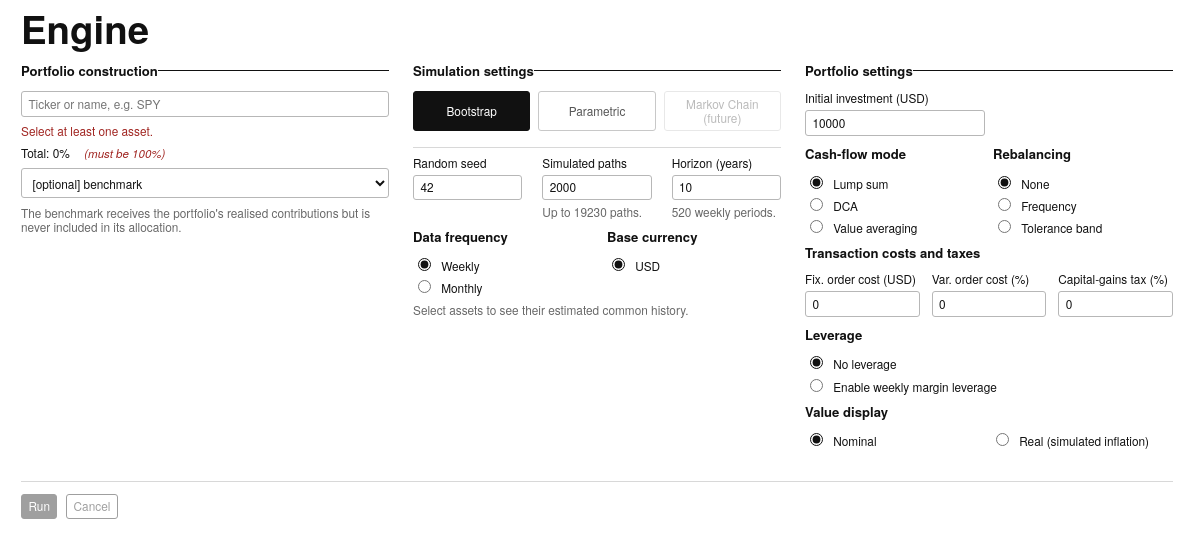
Scenario: SimulatorPage — the search -> select -> weight -> run flow › places a total-allocation error beside the controls and disables Run until it is fixed
Type "e" into the search field named "Search ETFs and assets" at (205, 104), box [21,91,389,117]
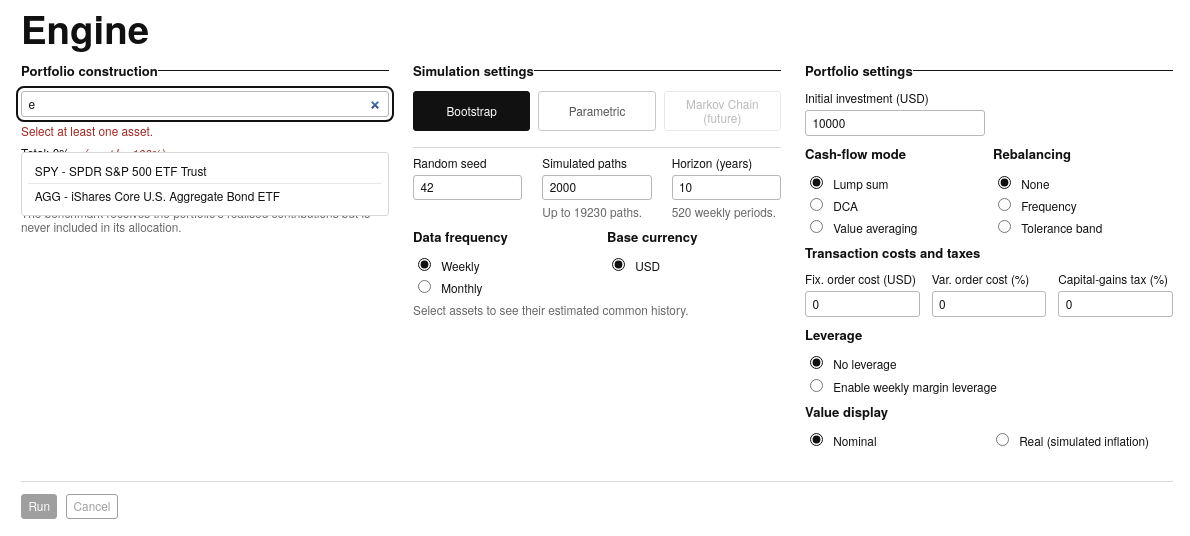
Click the button "SPY - SPDR S&P 500 ETF Trust" at (205, 172), box [28,160,382,183]
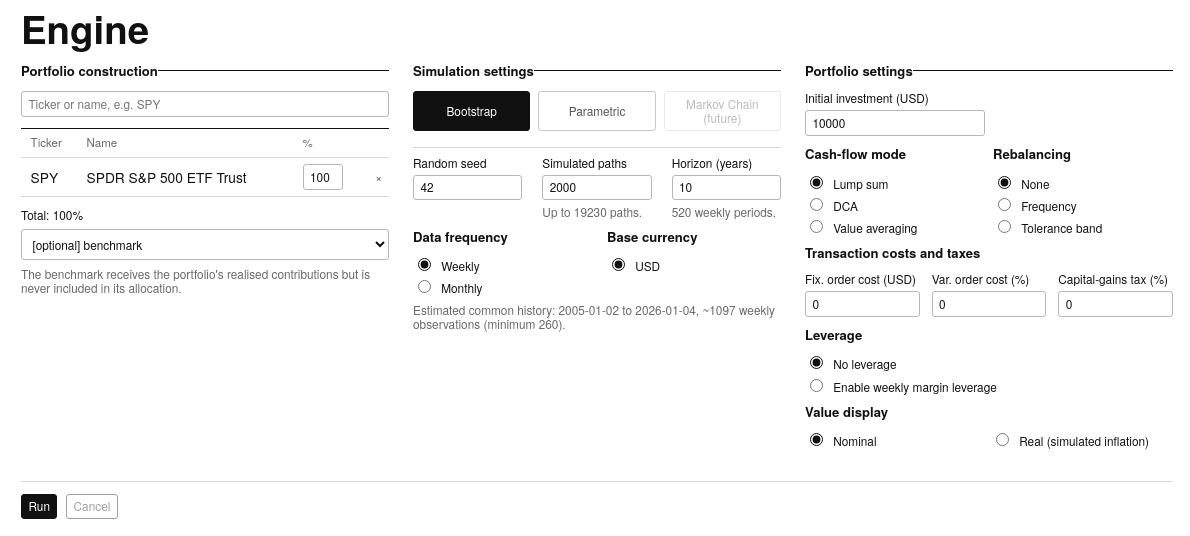
Type "agg" into the search field named "Search ETFs and assets" at (205, 104), box [21,91,389,117]
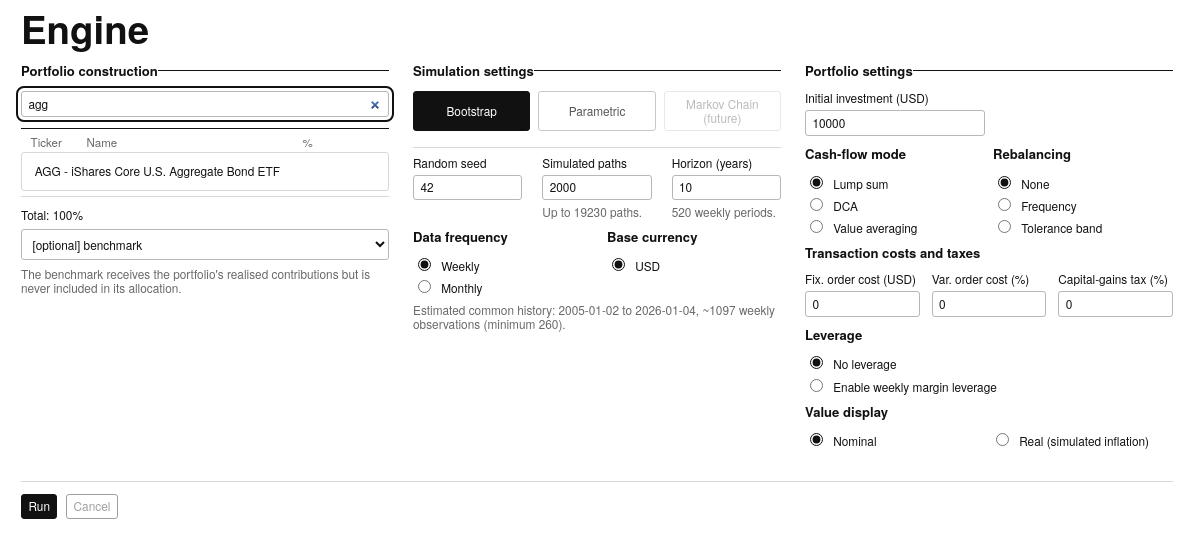
Click the button "AGG - iShares Core U.S. Aggregate Bond ETF" at (205, 172), box [28,160,382,183]
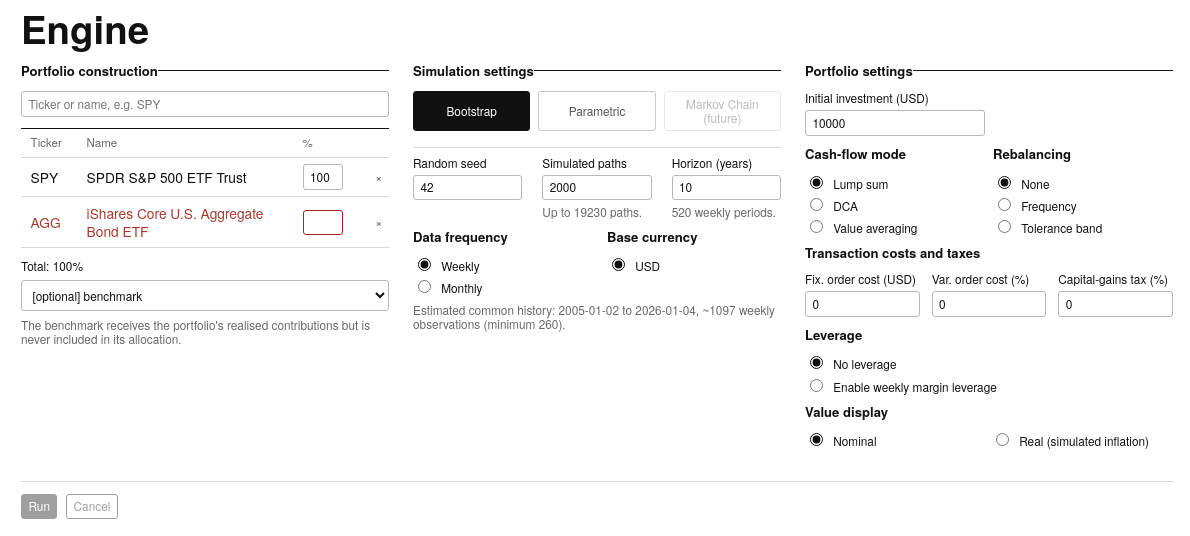
Type "30" into the field named "Allocation percent for AGG" next to "iShares Core U.S. Aggregate Bond ETF" at (323, 222), box [303,210,343,235]
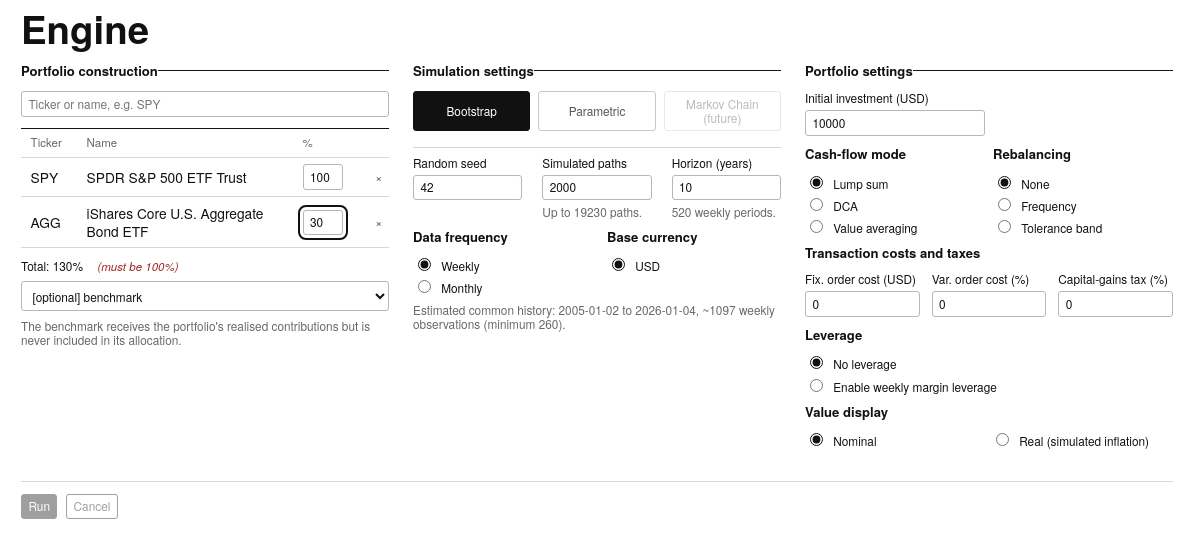
Result: the button "Run" is disabled at [21,494,57,519]
Rebalance to 70/30: the error disappears and Run unlocks.
Replace the text in the field named "Allocation percent for SPY" in the row of "SPY" with "70" at (323, 177), box [303,164,343,190]
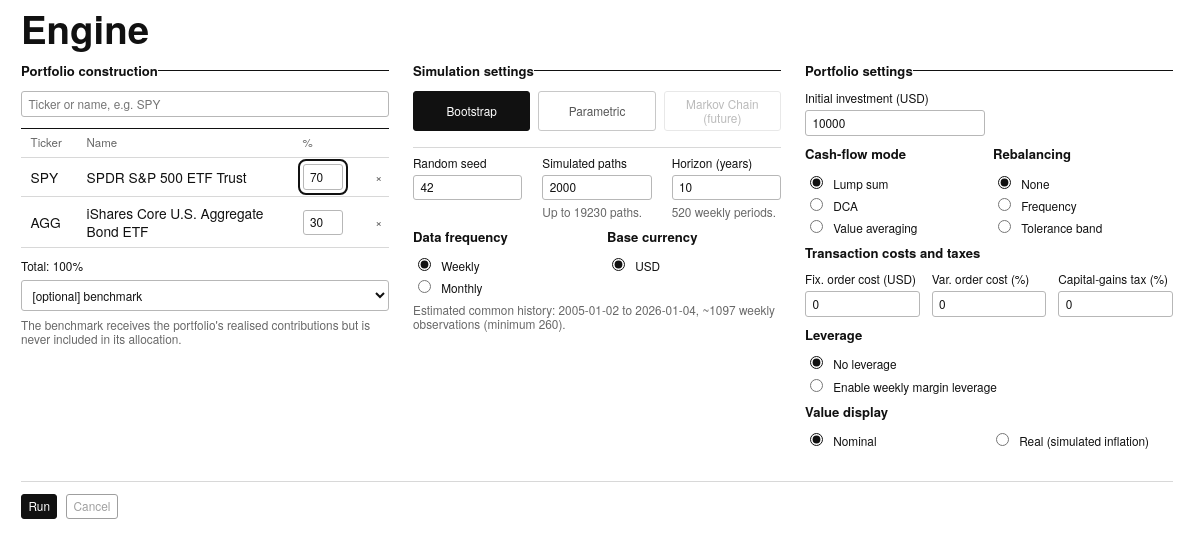
Expected: the text "Allocations must total 100%" is not shown
Result: the button "Run" is enabled at [21,494,57,519]
